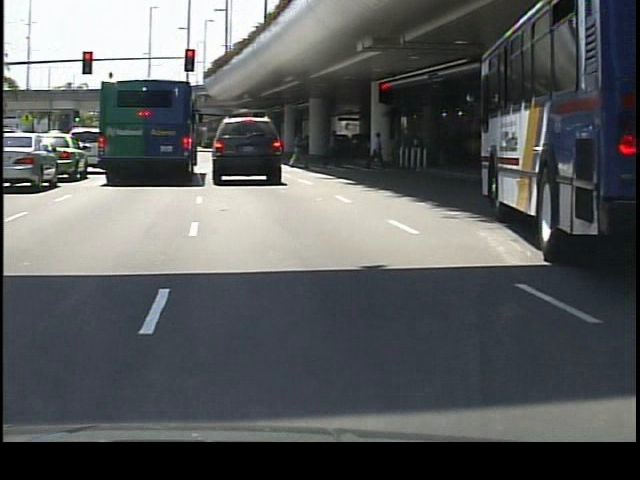person: (319, 126, 341, 173), (286, 127, 306, 173), (364, 131, 384, 171)
